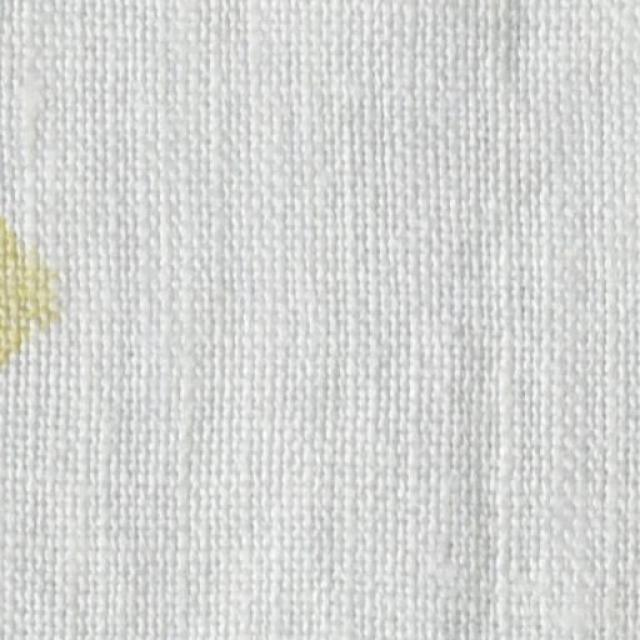Stain: (0, 217, 58, 366)
